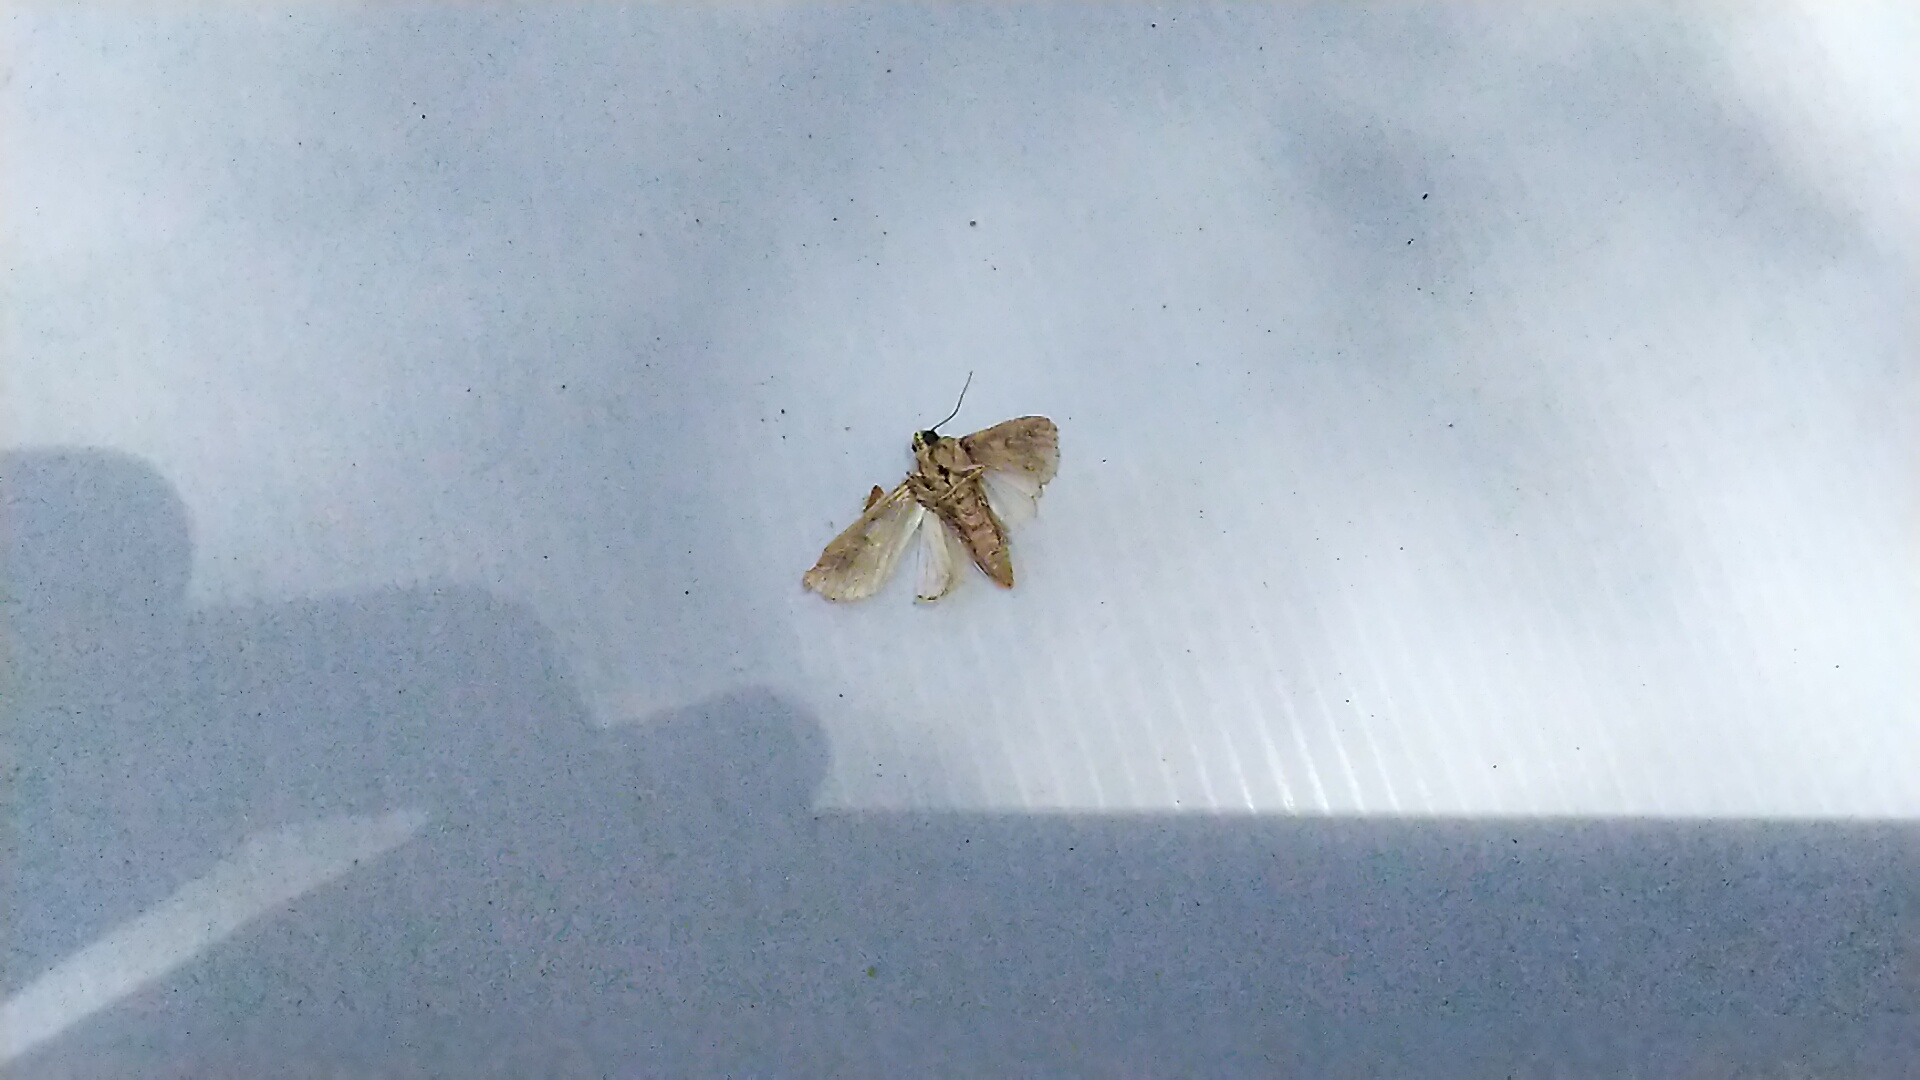INS-B: (774, 361, 1091, 638)
